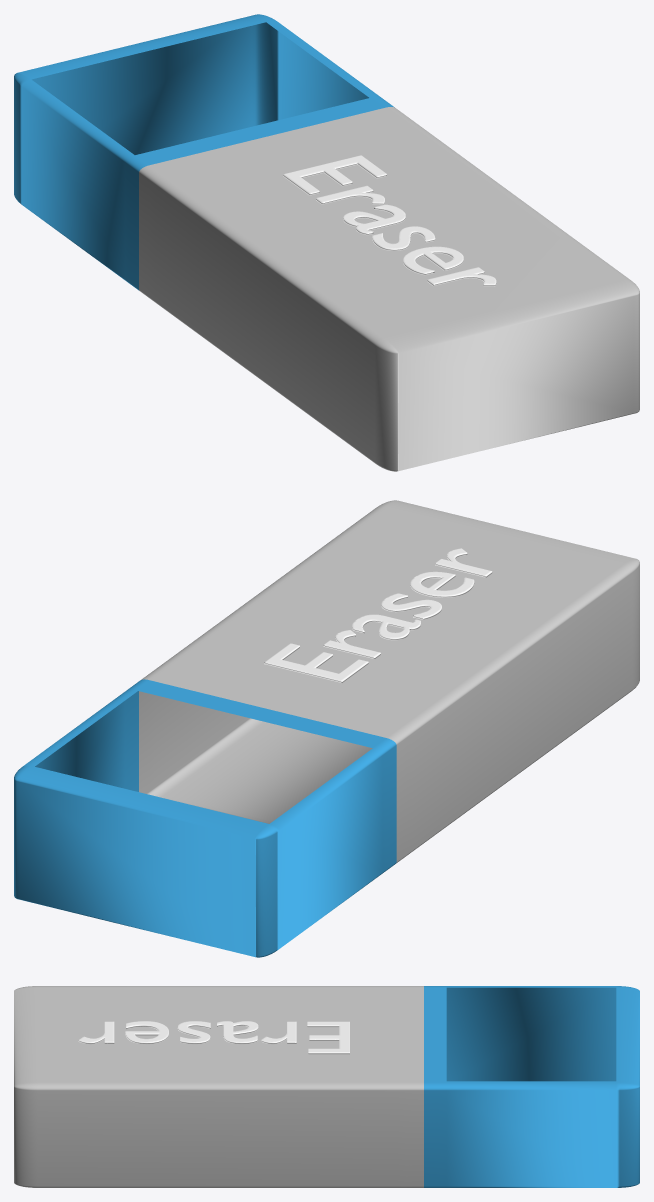
Rendered from eraser.glb.
The picture shows the model from 3 angles, top to bottom: view 1: azimuth 30°, elevation 25°; view 2: azimuth 150°, elevation 25°; view 3: azimuth 270°, elevation 25°; orthographic projection. The views are drawn at different scales.
Parts seen in each view (by area): view 1: Cube; view 2: Cube; view 3: Cube.
Boxes of the visible parts, x1,y1,x2,y2 form: Cube: (14, 14, 639, 471); Cube: (14, 500, 639, 957); Cube: (14, 986, 639, 1187).
Size of the model in its own units: 0.2176 by 0.1041 by 0.5593.
